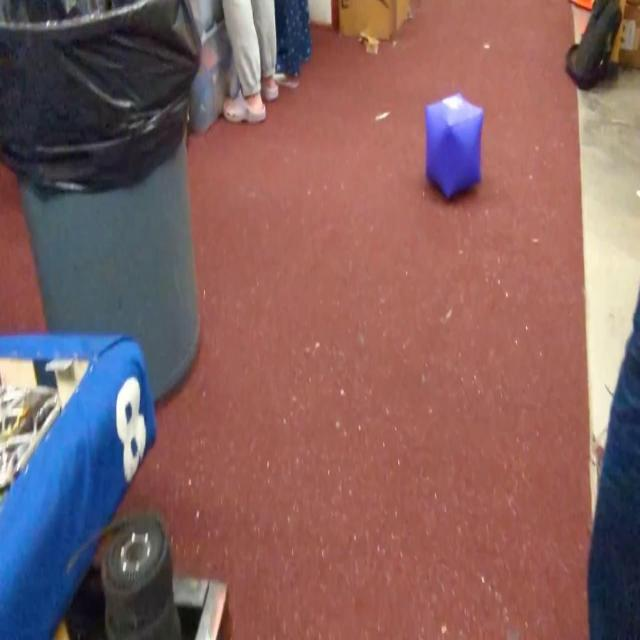frc_cube: (426, 94, 484, 204)
